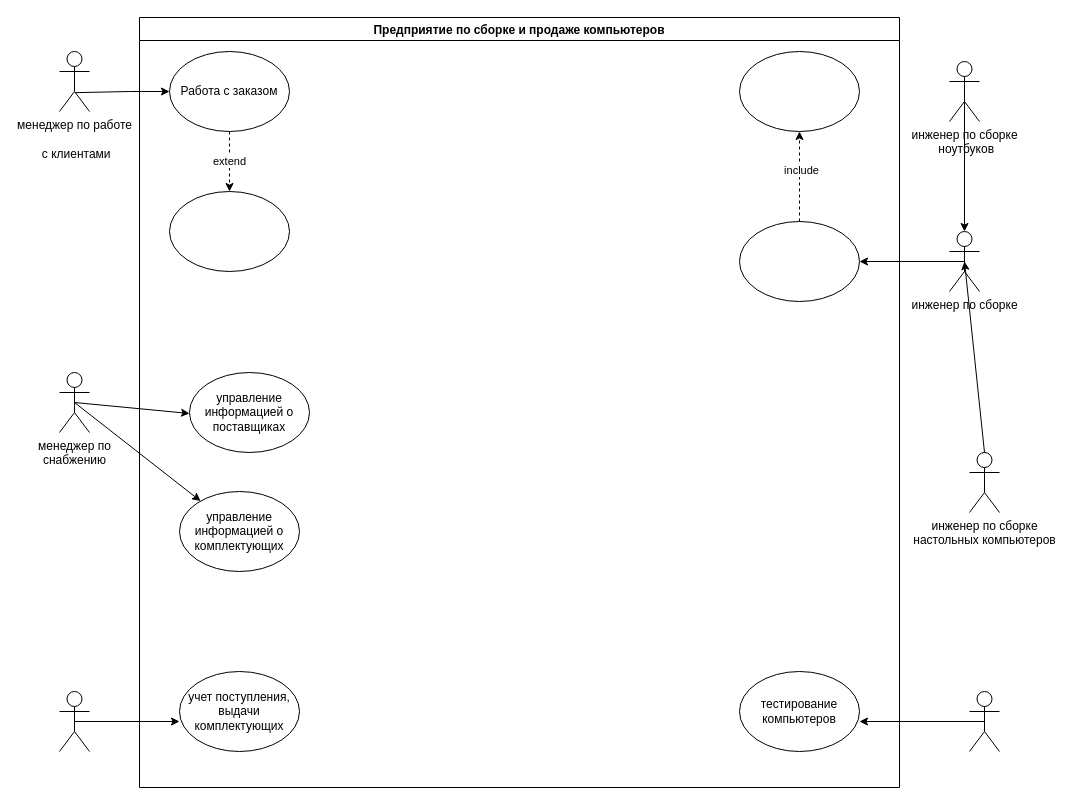
Image size: 1075x805. Some labels were removed from this diagram. Each missing label, with the box of its shape:
завскладом: (58, 690, 90, 752)
инженер по тестированию: (968, 690, 1000, 752)
сборка компьютеров: (738, 220, 860, 302)
требования необходимых комлектующих: (738, 50, 860, 132)
управление информациеей о клиенте: (168, 190, 290, 272)
